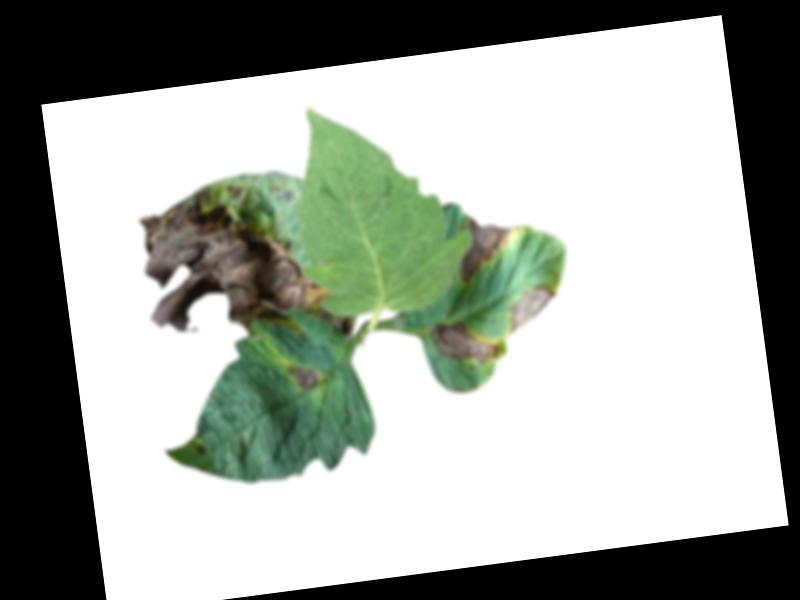Early_blight: (135, 170, 333, 353), (452, 212, 524, 282), (429, 314, 502, 371), (505, 282, 562, 333), (288, 358, 323, 392), (332, 313, 359, 337), (193, 439, 208, 457)
healthy: (280, 86, 484, 337)
